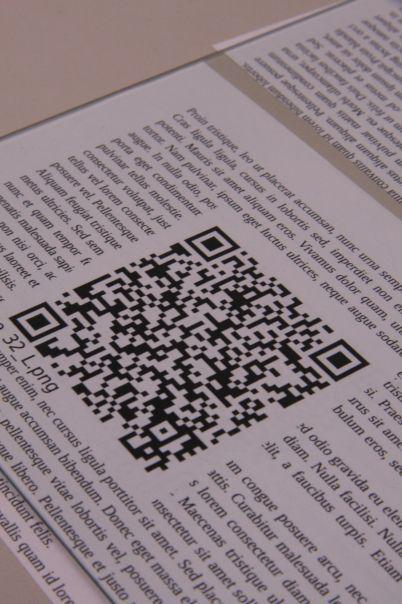Finder pattern: (311, 335, 369, 386), (12, 300, 68, 347), (183, 223, 242, 267)
